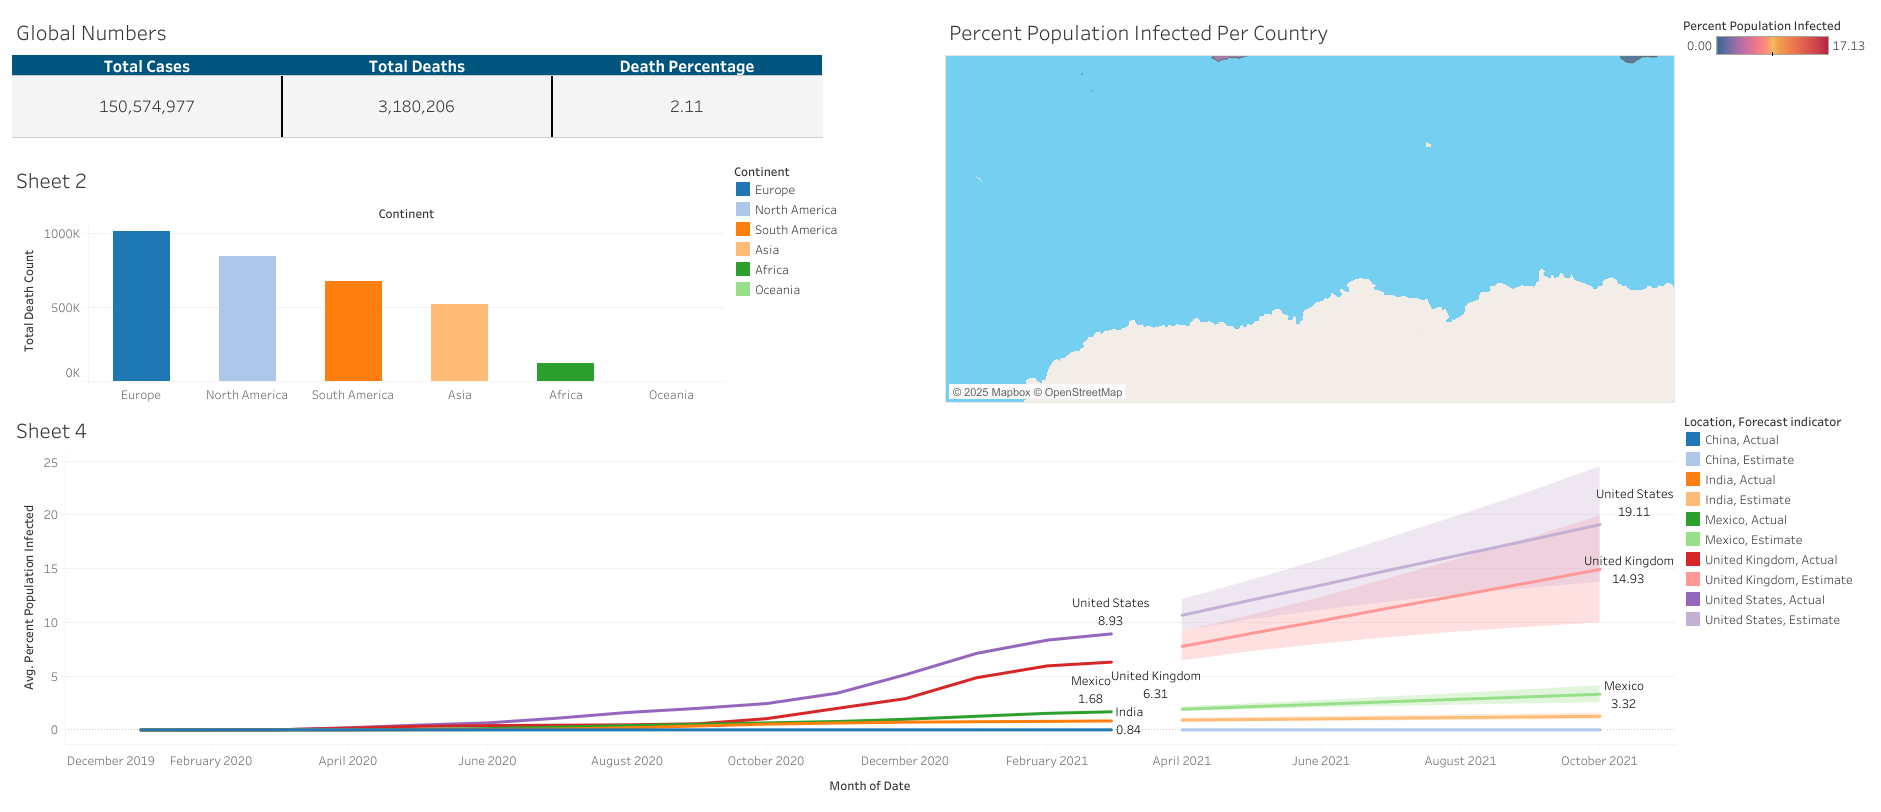

The page's visual inventory and layout, read from the dashboard file:
{"tool":"tableau","page":{"name":"Dashboard 1","canvas":[1000,1000],"units":"permille","ordinal":0},"visuals":[{"type":"worksheet","title":"Sheet 1","mark":"Automatic","box":[4.7,9.3,495.3,182.9]},{"type":"worksheet","title":"Sheet 3","mark":"Automatic","box":[500,9.3,391.8,490.7]},{"type":"legend","title":"Sheet 3","param":"[federated.1ngtabu1vn43e810qpfw61709gqr].[sum:PercentPopulationInfected:qk]","box":[891.8,9.3,103.6,75.2]},{"type":"worksheet","title":"Sheet 2","mark":"Automatic","rows":["TotalDeathCount"],"cols":["location"],"box":[4.7,192.1,382.7,307.9]},{"type":"legend","title":"Sheet 2","param":"[federated.1yxxkbw0rfyinw1fx4bbn1551bar].[none:location:nk]","box":[387.4,192.1,112.6,307.9]},{"type":"worksheet","title":"Sheet 4","mark":"Automatic","rows":["PercentPopulationInfected"],"cols":["date"],"box":[4.7,500,887.2,490.7]},{"type":"legend","title":"Sheet 4","param":"[federated.02n2gru0a7g5q61ab99on1a93761].[none:location:nk]\n[federated.02n2gru0a","box":[891.9,500,103.4,490.7]}]}

Visuals, with their boxes on the dashboard's canvas, which has no fixed pixel size, in thousandths of its width and height (x1, y1, x2, y2). These are canvas units, not pixel positions in the 1881x812 screenshot, which may show the page scaled, cropped or inside an application window:
"Sheet 1" worksheet: 5/9/500/192
"Sheet 3" worksheet: 500/9/892/500
"Sheet 3" legend: 892/9/995/84
"Sheet 2" worksheet: 5/192/387/500
"Sheet 2" legend: 387/192/500/500
"Sheet 4" worksheet: 5/500/892/991
"Sheet 4" legend: 892/500/995/991
